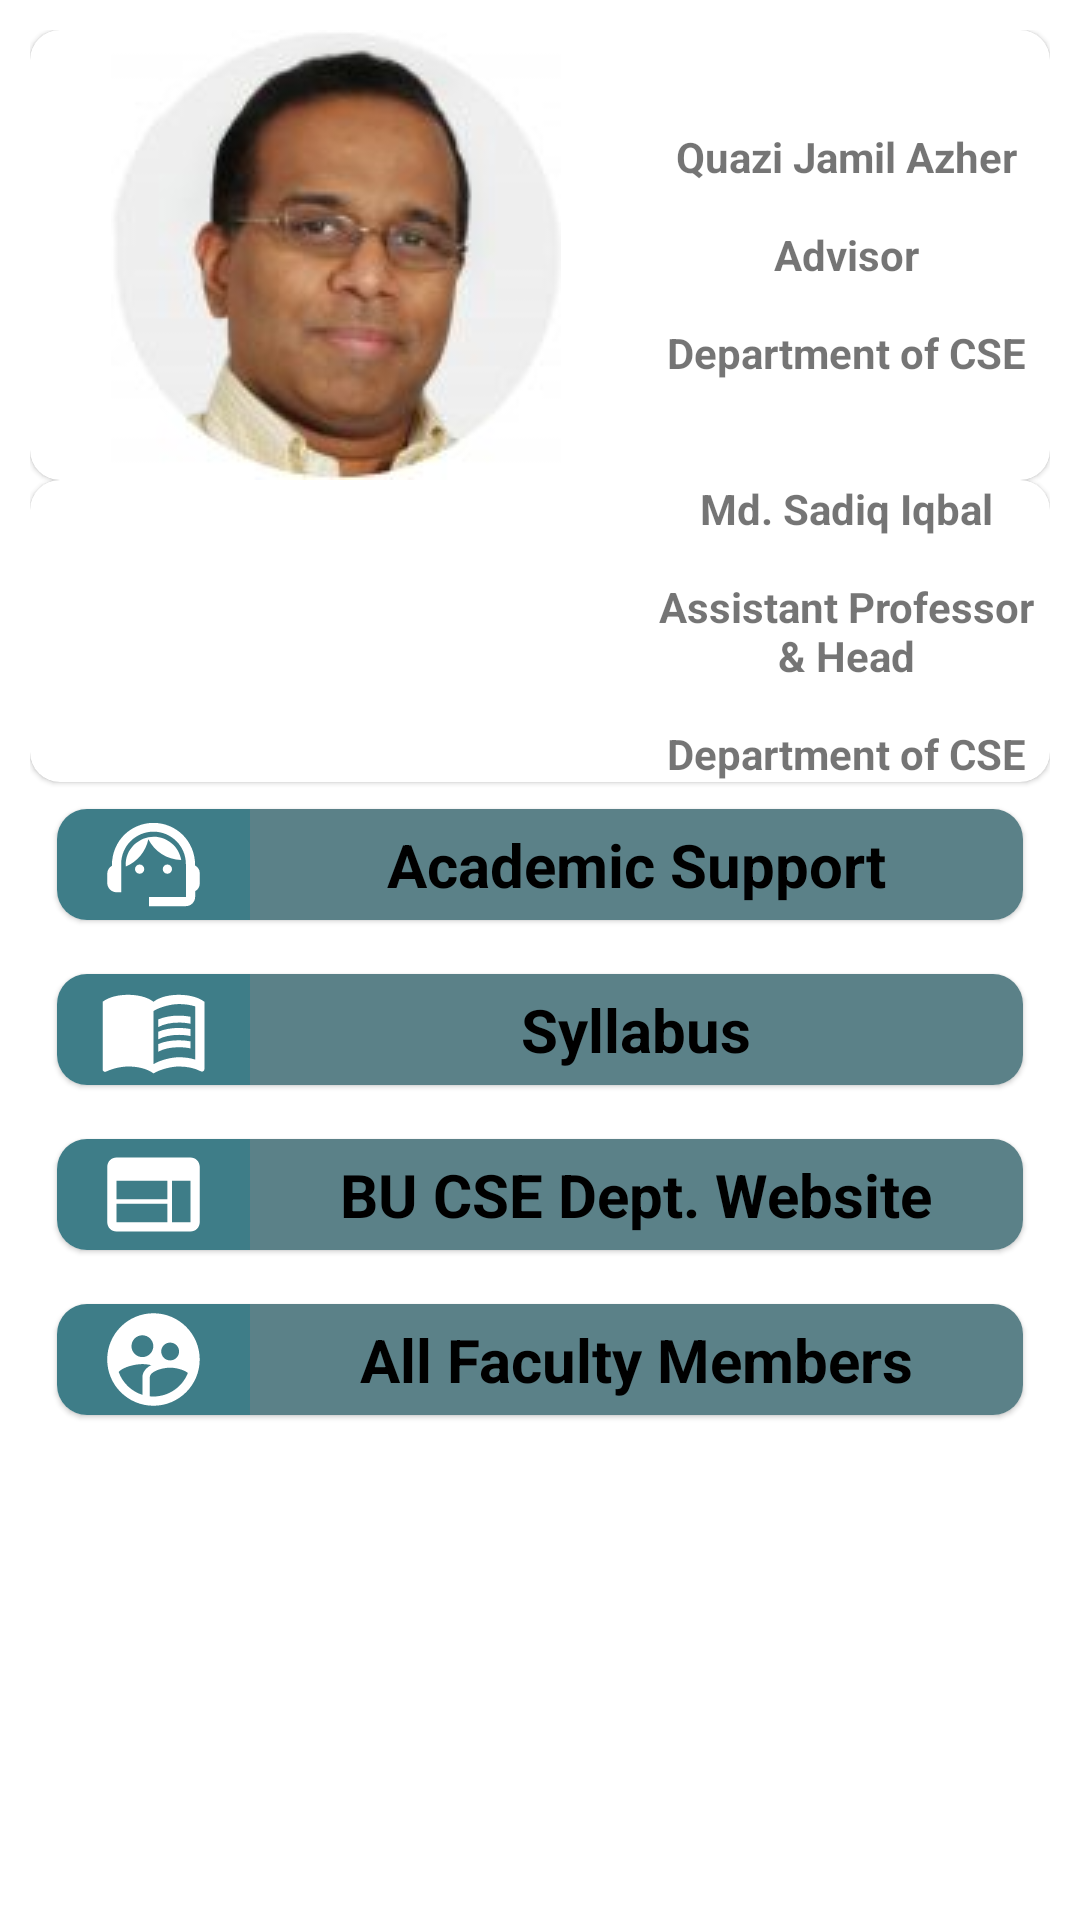

Icon bounding boxes for this 1080px x 1920px phone screenshot, format (x1, y1, x2, y2):
book: (57, 974, 250, 1085)
supervised user circle: (57, 1304, 250, 1415)
support agent: (57, 809, 250, 920)
web: (57, 1139, 250, 1250)
